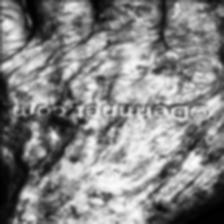Potentially Malignant Skin Tumors: (12, 118, 218, 206), (1, 209, 51, 224)
